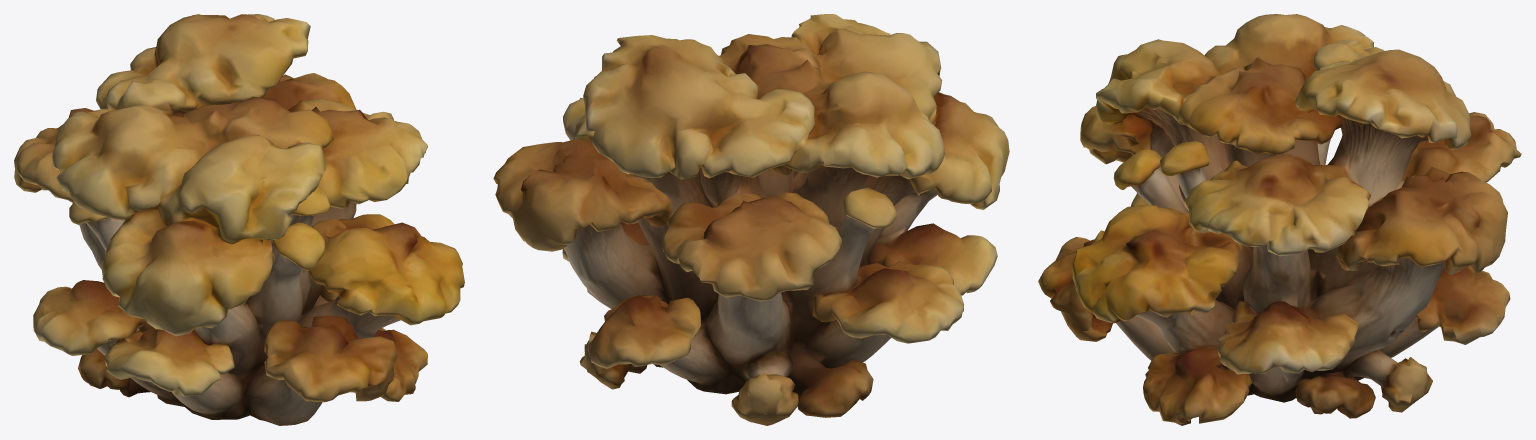
Rendered from fungusmass.glb.
The picture shows the model from 3 angles, left to right: view 1: azimuth 30°, elevation 25°; view 2: azimuth 150°, elevation 25°; view 3: azimuth 270°, elevation 25°; orthographic projection. The views are drawn at different scales.
Parts seen in each view (by area): view 1: tripo_node_427bd866-a26f-4ec2-a460-b1d50ecad12d; view 2: tripo_node_427bd866-a26f-4ec2-a460-b1d50ecad12d; view 3: tripo_node_427bd866-a26f-4ec2-a460-b1d50ecad12d.
Boxes of the visible parts, x1,y1,x2,y2 form: tripo_node_427bd866-a26f-4ec2-a460-b1d50ecad12d: [14, 14, 464, 425]; tripo_node_427bd866-a26f-4ec2-a460-b1d50ecad12d: [493, 14, 1009, 425]; tripo_node_427bd866-a26f-4ec2-a460-b1d50ecad12d: [1038, 14, 1521, 425].
Bounding box in the file's own units: 0.2416 × 0.2 × 0.2662.
1 material, 1 textured.
